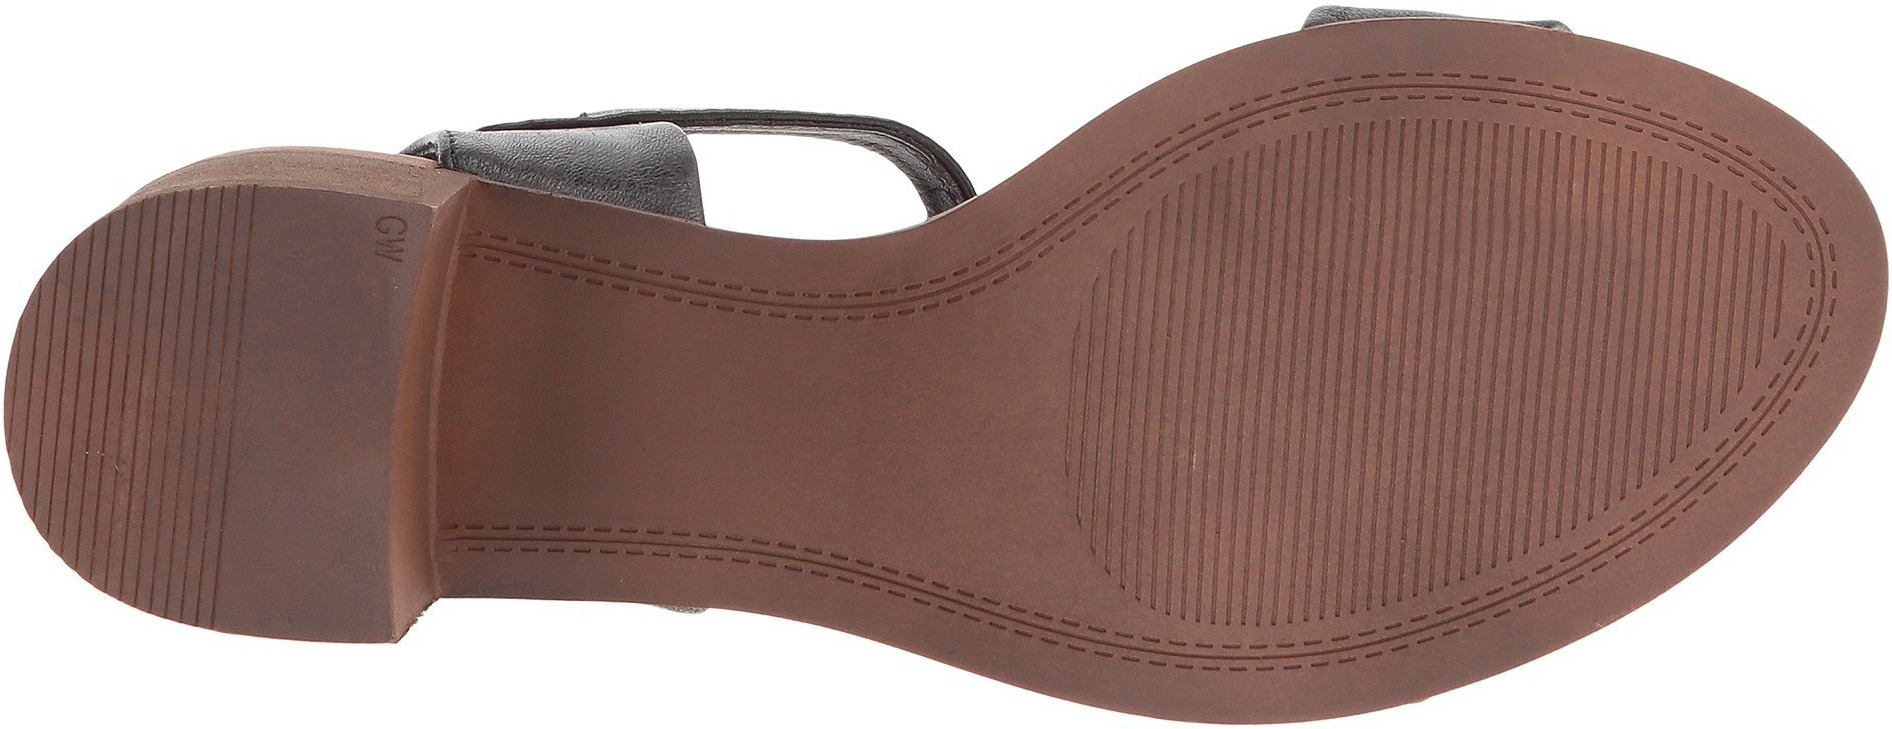other: (1088, 268, 1407, 571), (1406, 119, 1669, 380), (35, 282, 249, 492), (1411, 385, 1560, 552), (1265, 130, 1402, 262), (234, 503, 378, 628), (1675, 228, 1791, 350)
text: (363, 214, 422, 269)
